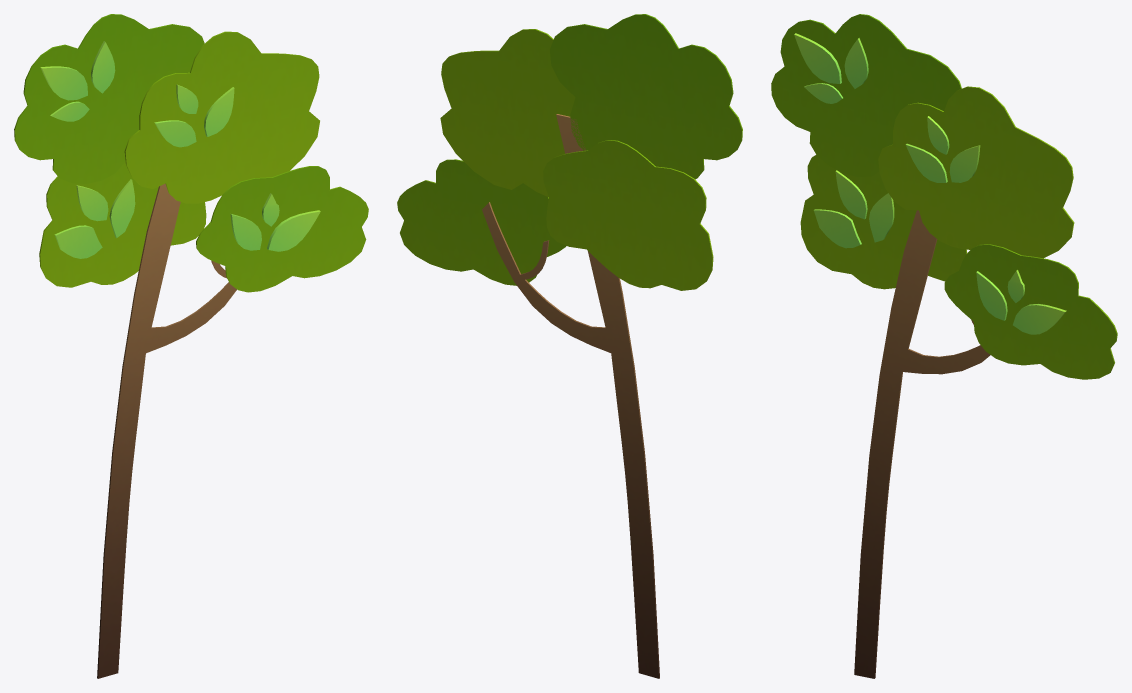
Rendered from obj-boom-4.FBX.
The picture shows the model from 3 angles, left to right: view 1: azimuth 30°, elevation 25°; view 2: azimuth 150°, elevation 25°; view 3: azimuth 330°, elevation 25°; orthographic projection.
Visible parts, largest first — view 1: boom 4; view 2: boom 4; view 3: boom 4.
Part boxes in pixels (x1=…): boom 4: x1=14, y1=14, x2=368, y2=678; boom 4: x1=397, y1=14, x2=742, y2=678; boom 4: x1=771, y1=14, x2=1117, y2=678.
Bounding box in the file's own units: 10.35 × 18.71 × 0.4888.
Materials: 1 (1 with a texture image).
